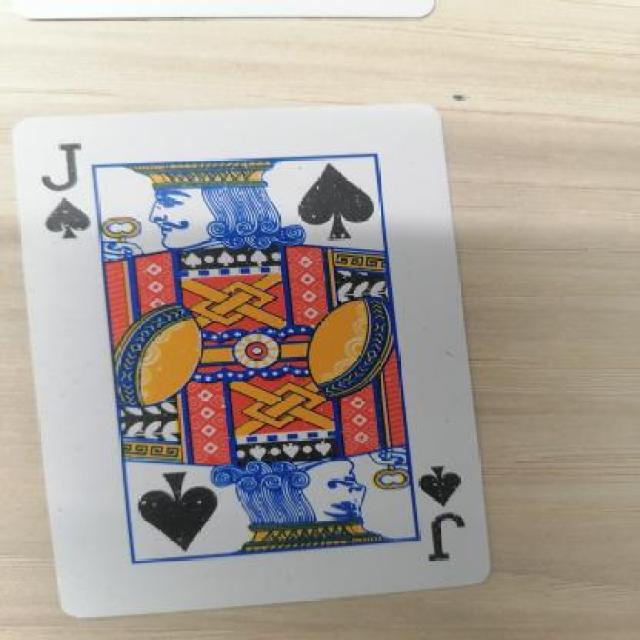JS: (36, 131, 110, 272), (414, 449, 486, 568)
